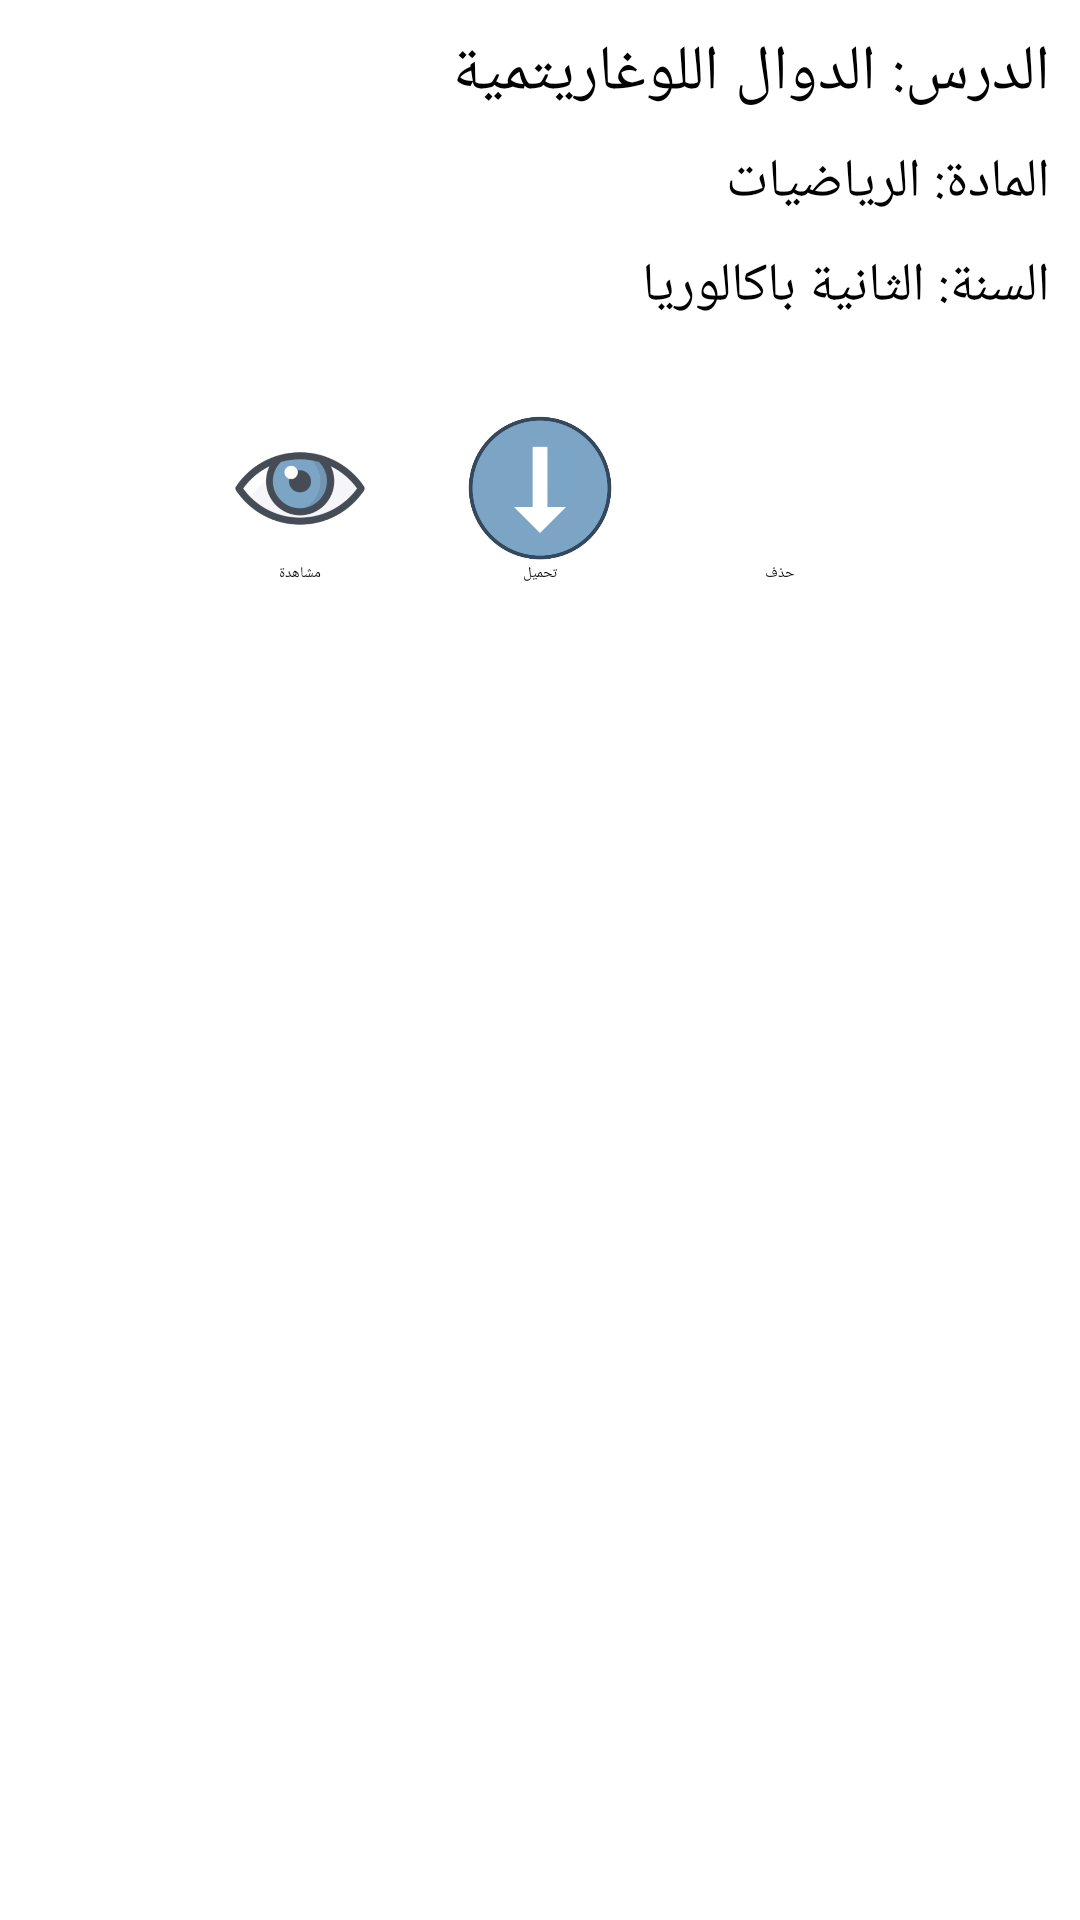

Icons on this 1080x1920 Android screen, each with its box as rect(x1, y1, x2, y2):
open: rect(235, 452, 365, 525)
